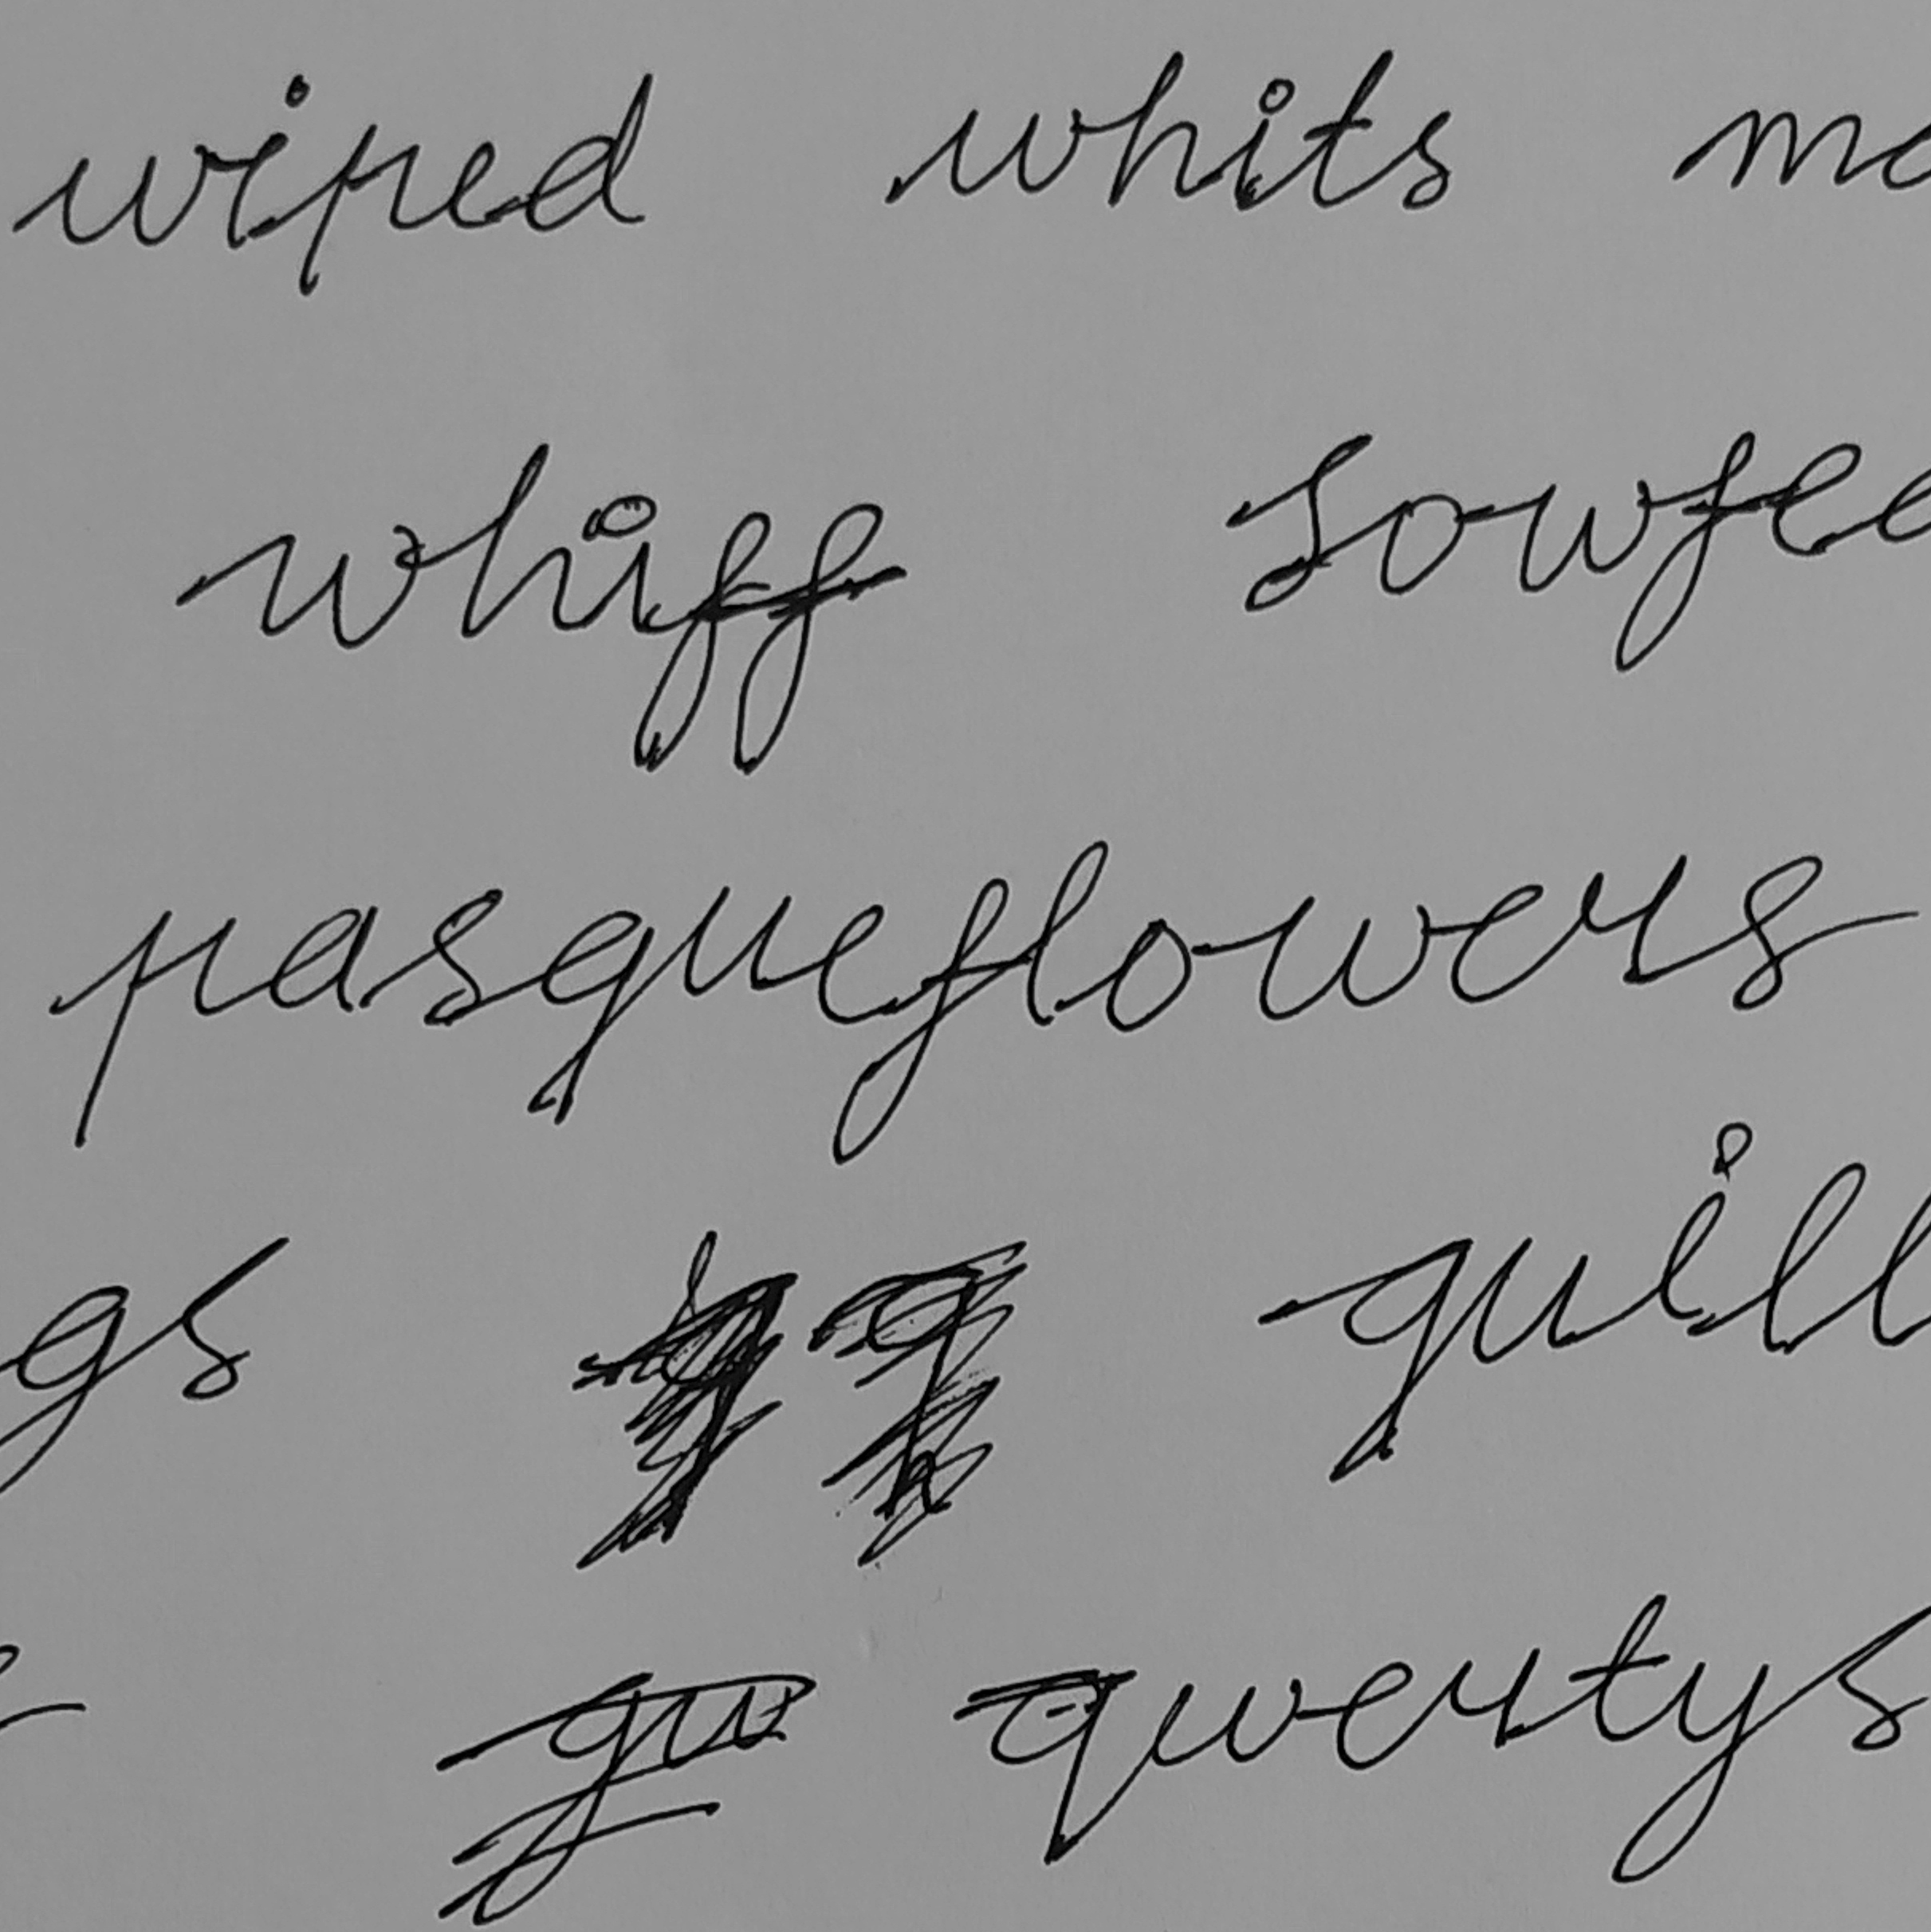a: (265, 902, 380, 1014)
e: (1448, 881, 1549, 1007), (813, 901, 891, 1030)
f: (828, 872, 1010, 1168)
l: (1022, 839, 1111, 1028)
o: (1103, 915, 1194, 1037)
p: (73, 906, 239, 1150)
q: (520, 906, 658, 1129)
r: (1567, 851, 1692, 989)
s: (1728, 851, 1825, 1012), (419, 885, 506, 1030)
u: (679, 881, 794, 1003)
w: (1256, 892, 1434, 1023)
